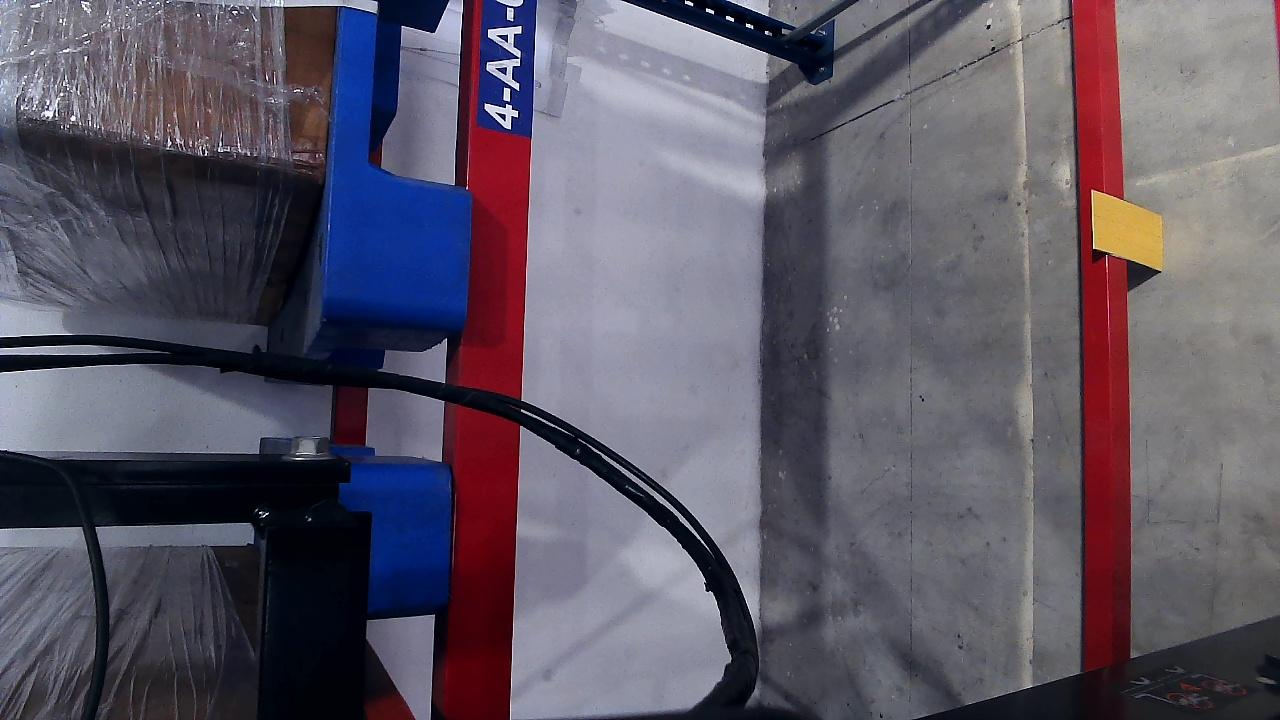h_rack: (1060, 1, 1130, 673), (473, 0, 524, 719)
orange_strip: (1091, 187, 1162, 272)
small_pallet: (322, 0, 470, 317)
